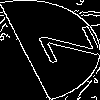Z: (25, 25, 100, 69)
